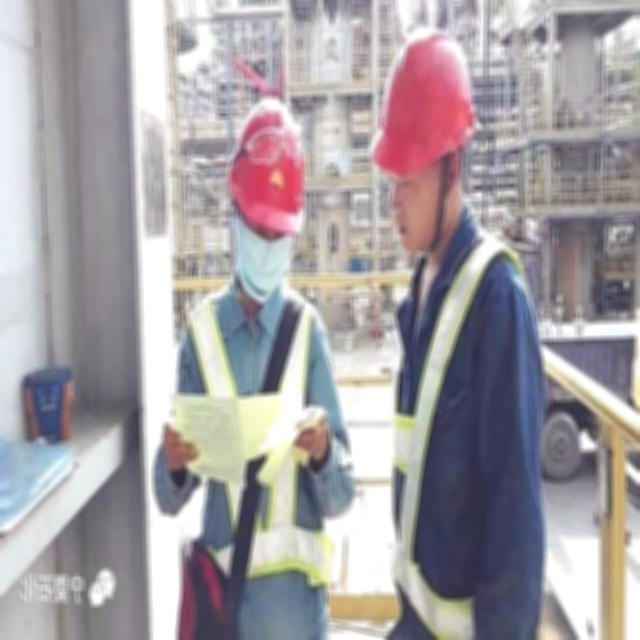Con_Casco: (383, 27, 474, 209), (223, 99, 309, 261)
Con_Chaleco: (391, 222, 532, 619), (181, 287, 328, 595)
